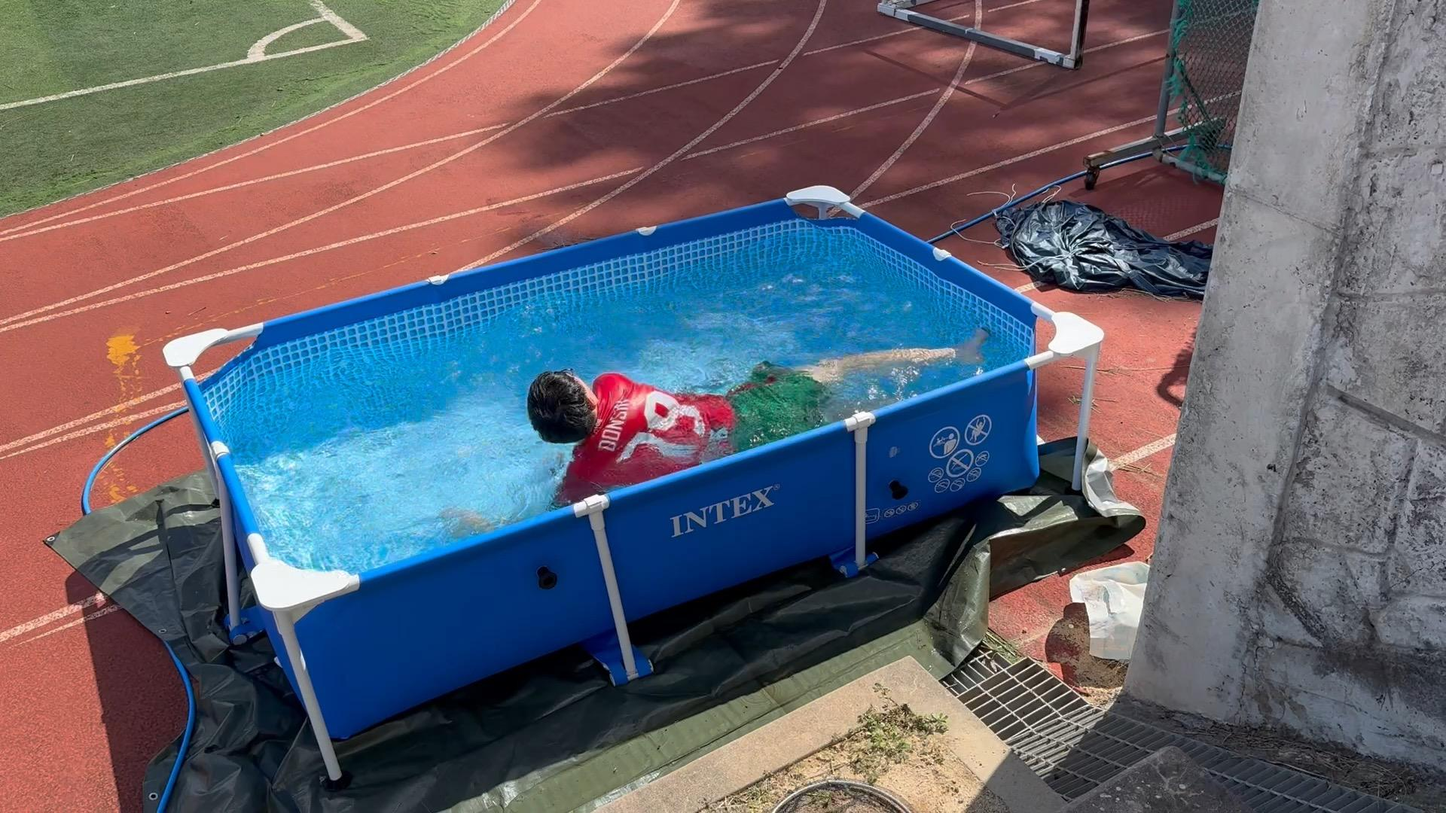Swimming: (407, 291, 991, 544)
